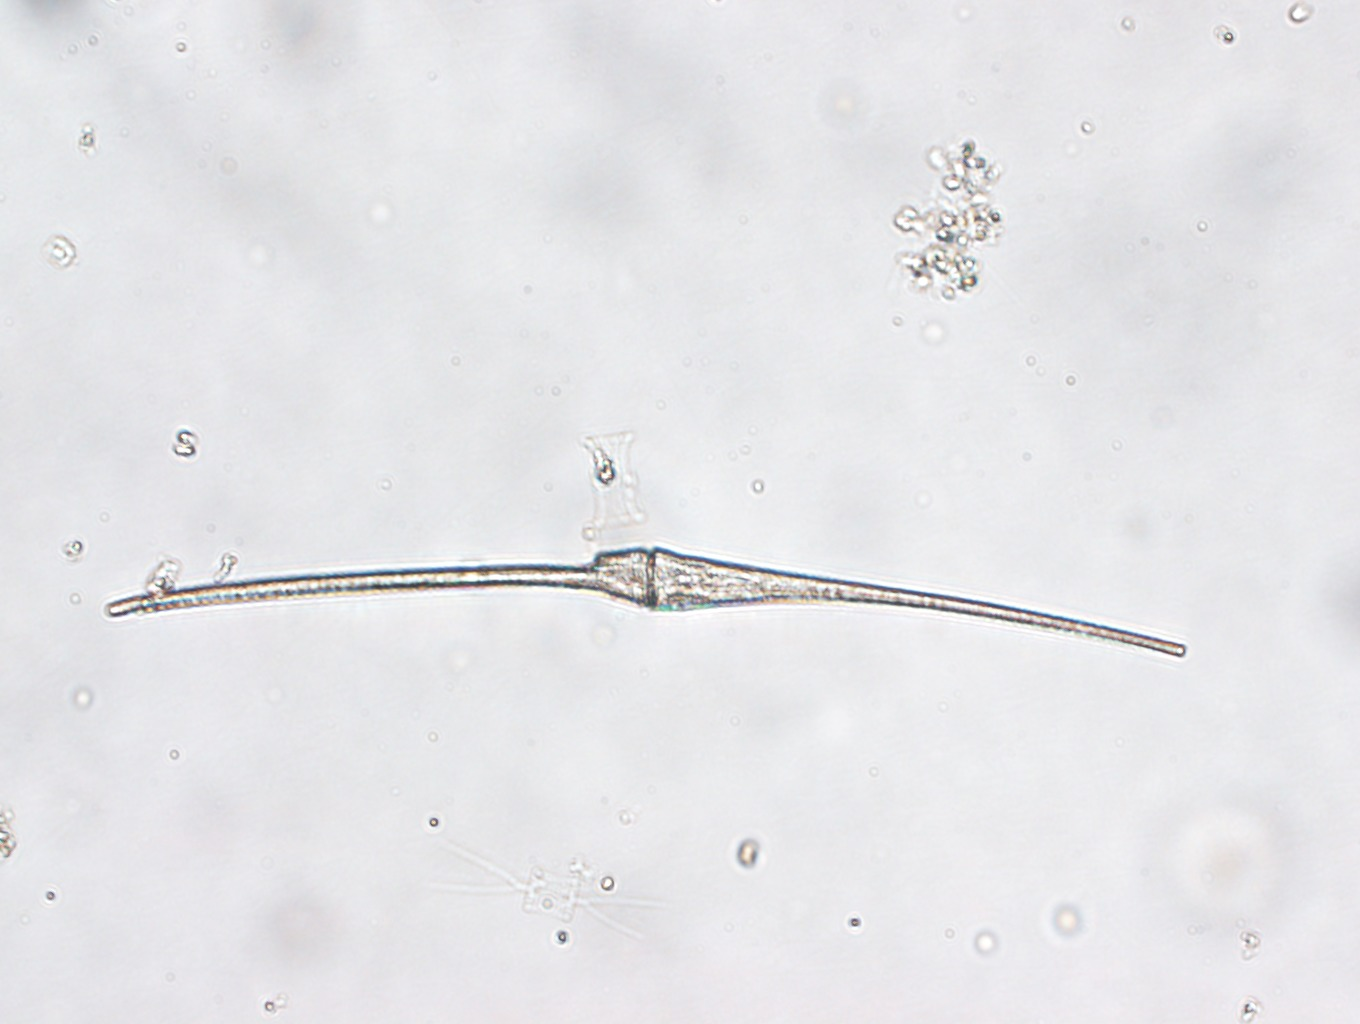ceratium fusus: (105, 545, 1185, 663)
